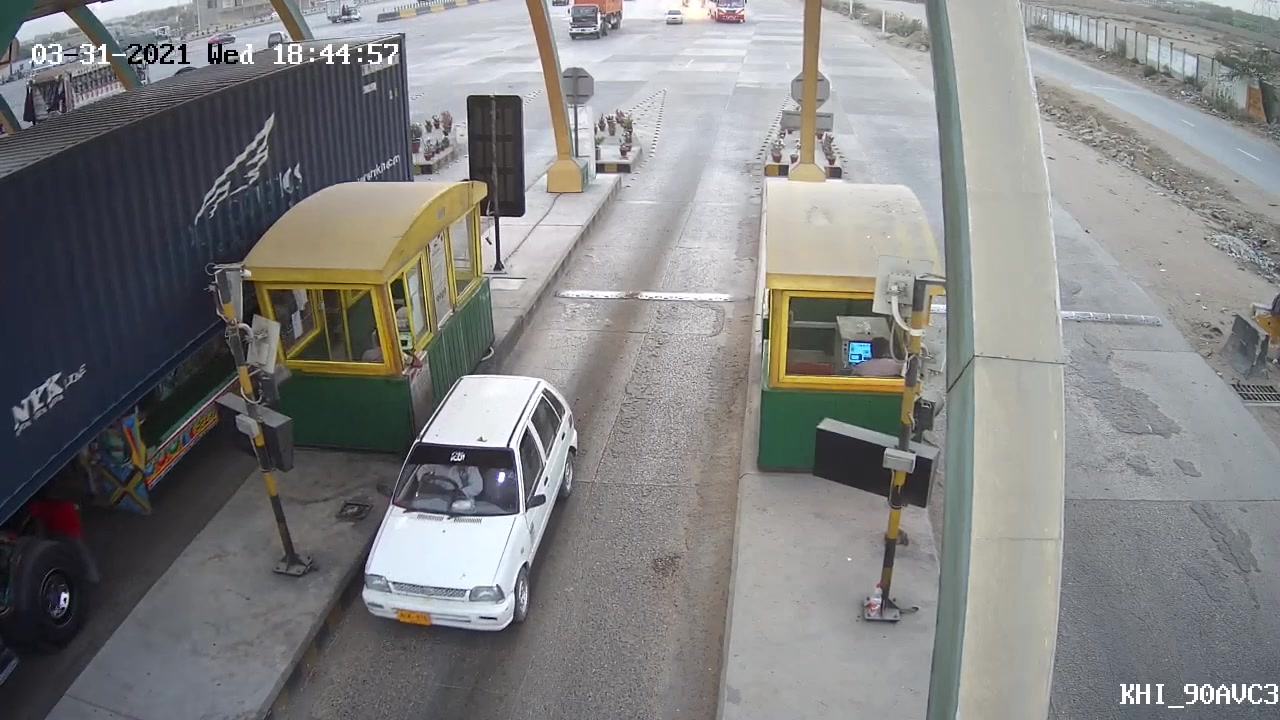F1: (339, 370, 595, 642)
